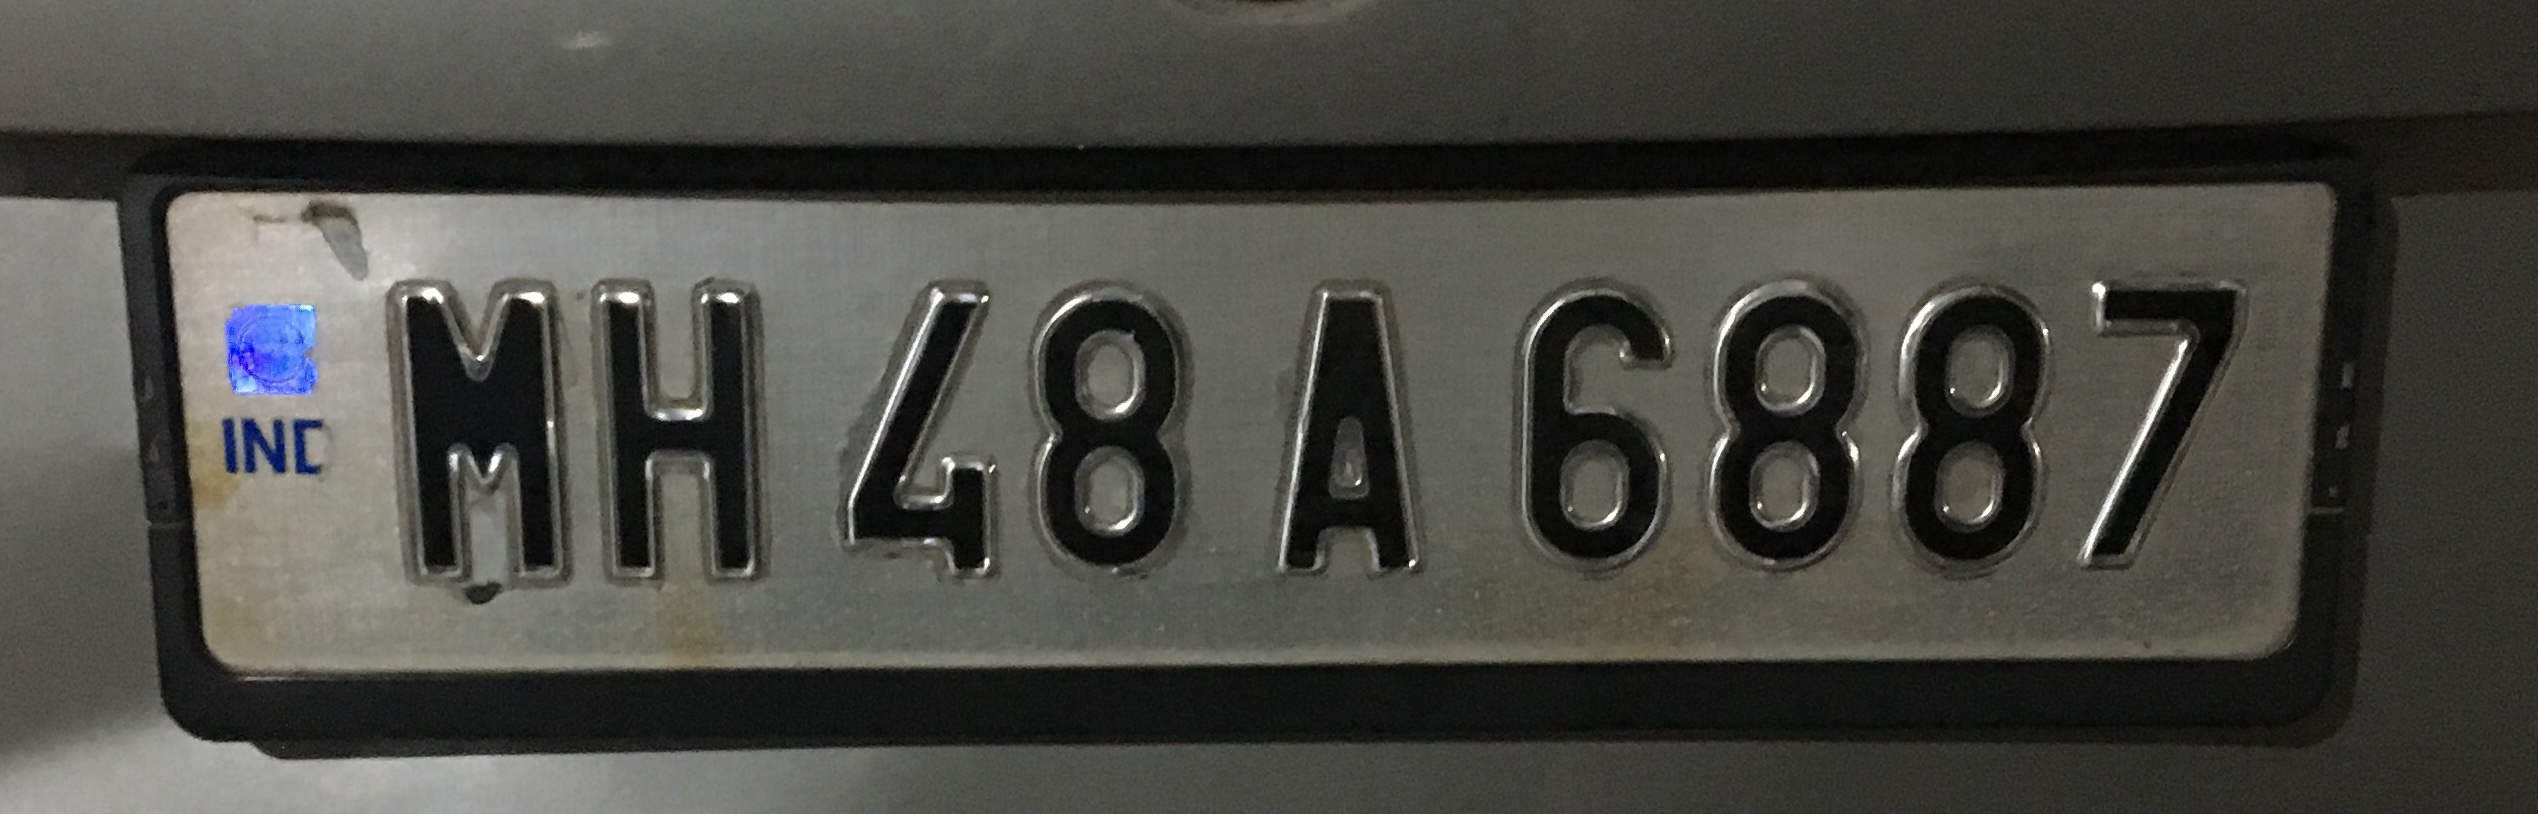numberplate: (147, 167, 2340, 692)
